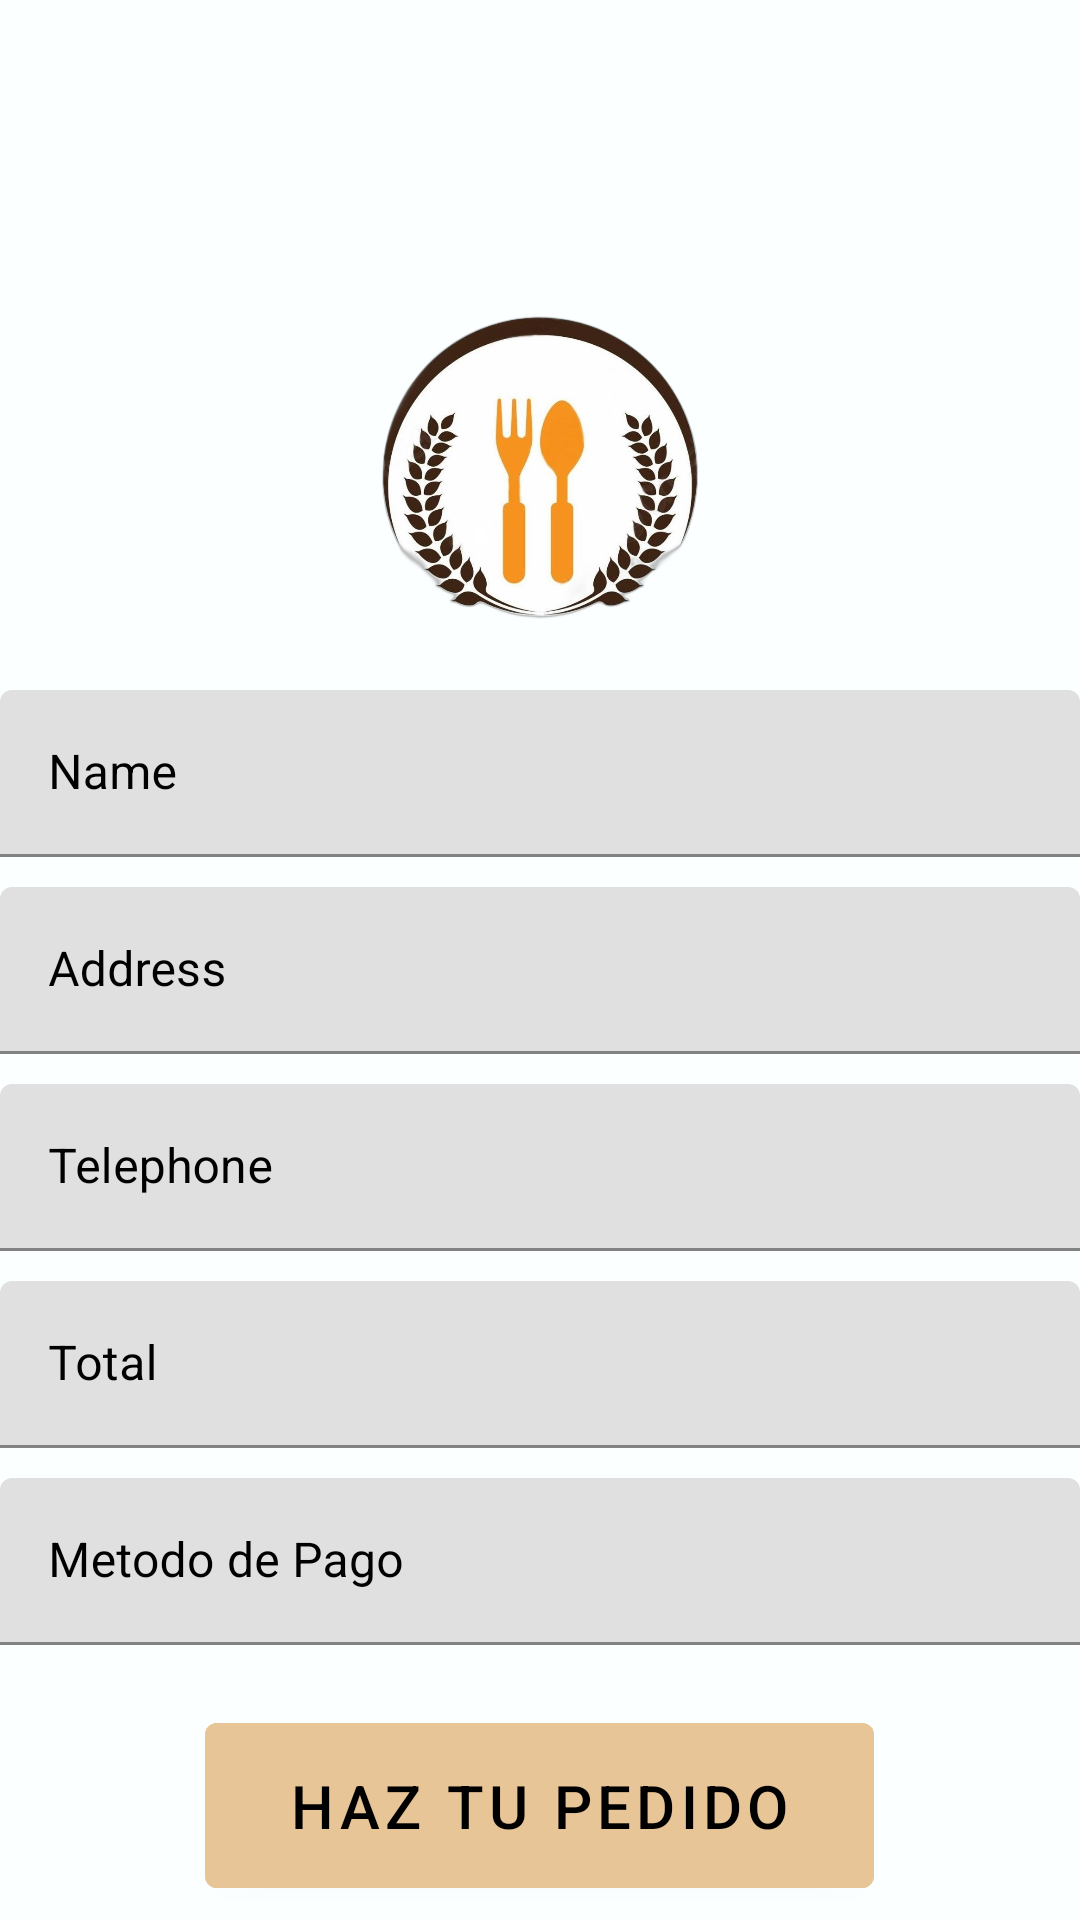

Locate icon controls on the screen. Image size 1080×1920, boxes as (x1, y1, x2, y2).
restaurante: (382, 317, 698, 618)
